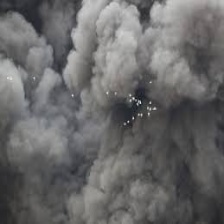smoke: (7, 3, 224, 222)
